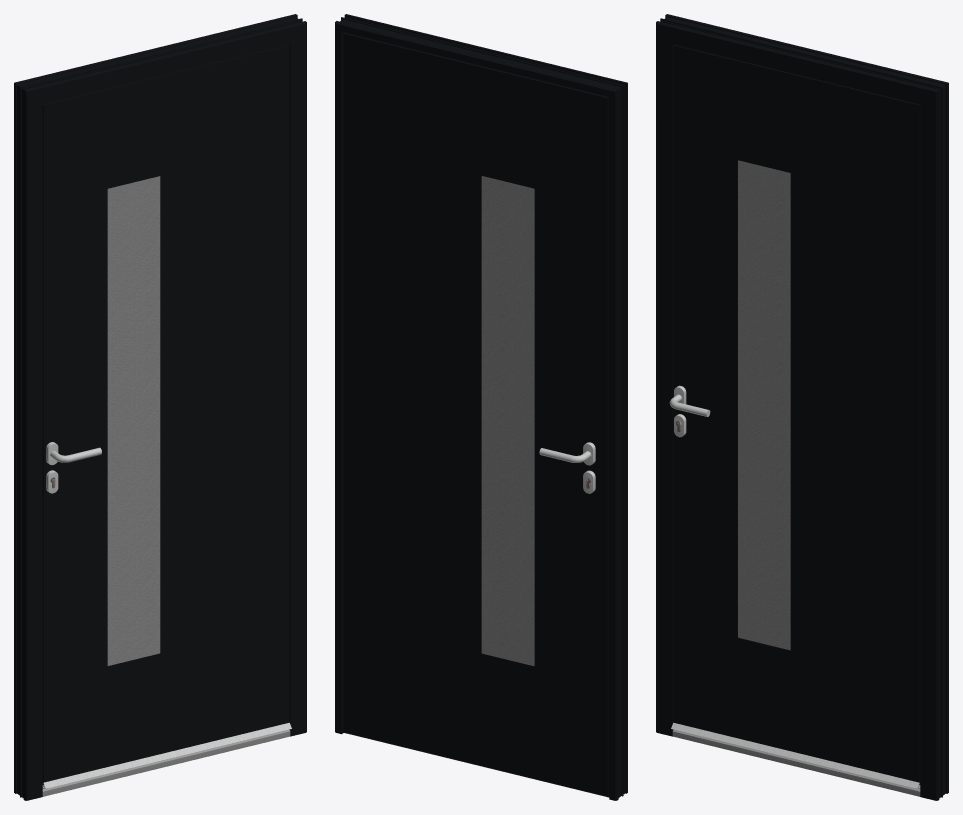
3 views of the same model, side by side, from view 1: azimuth 30°, elevation 25°; view 2: azimuth 150°, elevation 25°; view 3: azimuth 330°, elevation 25° (orthographic).
Visible parts, largest first — view 1: bloco_32, aroFixo, Plane001, aroMovel, rodapé, escovas, puxador001; view 2: bloco_32, Plane002, aroFixo, aroMovel, puxador; view 3: bloco_32, aroFixo, Plane001, aroMovel, rodapé, escovas, puxador001.
Boxes of the visible parts, <box> form: bloco_32: <box>43,46,289,782</box>; aroFixo: <box>14,14,306,800</box>; Plane001: <box>107,176,160,665</box>; aroMovel: <box>42,44,289,784</box>; rodapé: <box>42,729,290,796</box>; escovas: <box>42,722,291,788</box>; puxador001: <box>46,442,101,493</box>; bloco_32: <box>344,34,607,795</box>; Plane002: <box>481,176,534,665</box>; aroFixo: <box>335,14,627,800</box>; aroMovel: <box>343,32,609,796</box>; puxador: <box>539,442,595,493</box>; bloco_32: <box>673,46,918,782</box>; aroFixo: <box>656,14,948,800</box>; Plane001: <box>738,160,790,650</box>; aroMovel: <box>673,44,920,784</box>; rodapé: <box>672,729,920,796</box>; escovas: <box>671,722,920,788</box>; puxador001: <box>669,385,710,437</box>.
Size of the model in its own units: 900 by 2165 by 209.
7 materials, 3 textured.
